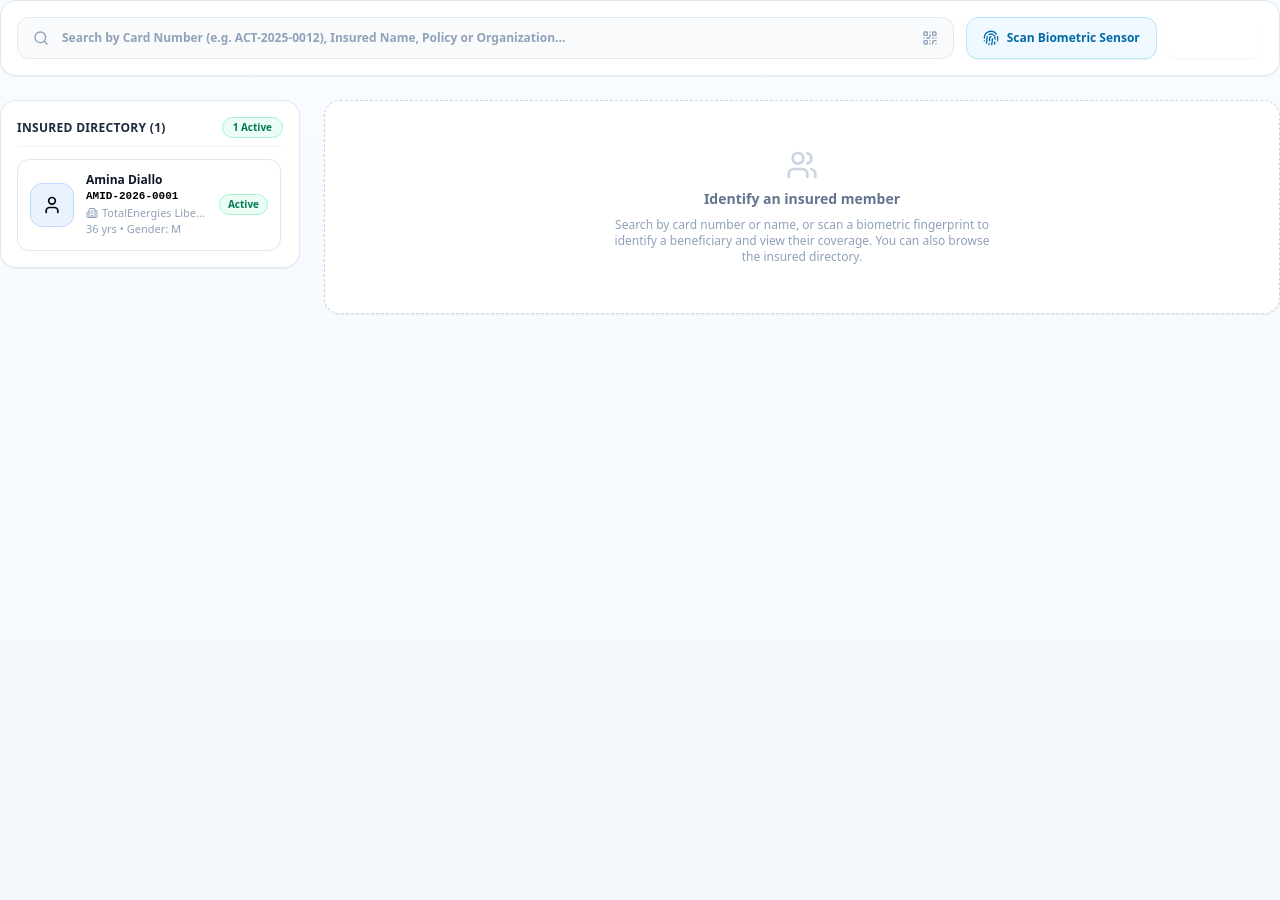
AgentIdentificationView — recherche par scan QR code › le bouton "Scan QR Code" ouvre la modale de scan
Click the button titled "Scan QR Code". click: [930, 38]
box: x1=914 y1=22 x2=946 y2=54
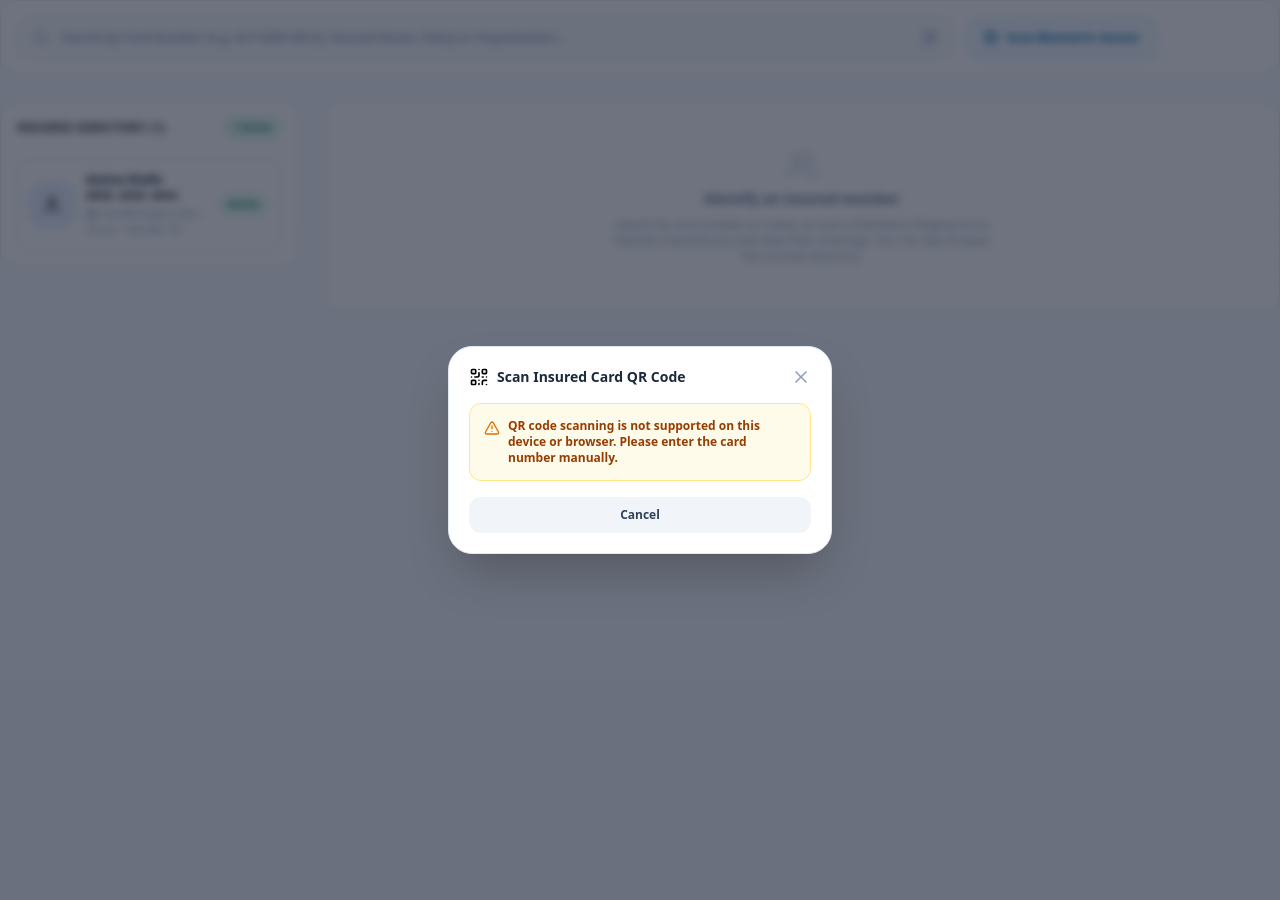
Now the heading "Scan Insured Card QR Code" is shown, box x1=497 y1=367 x2=686 y2=387
